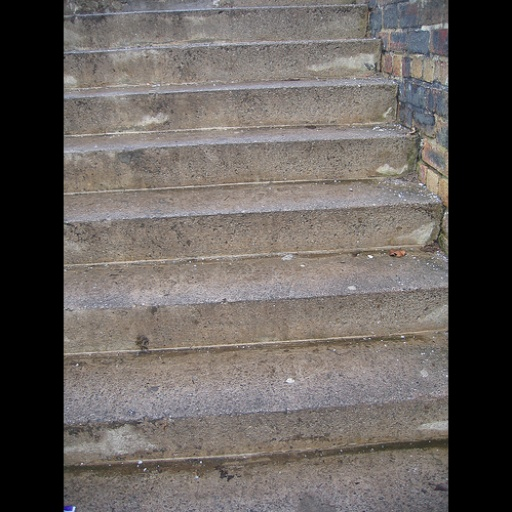Stairs: (65, 0, 447, 512)
